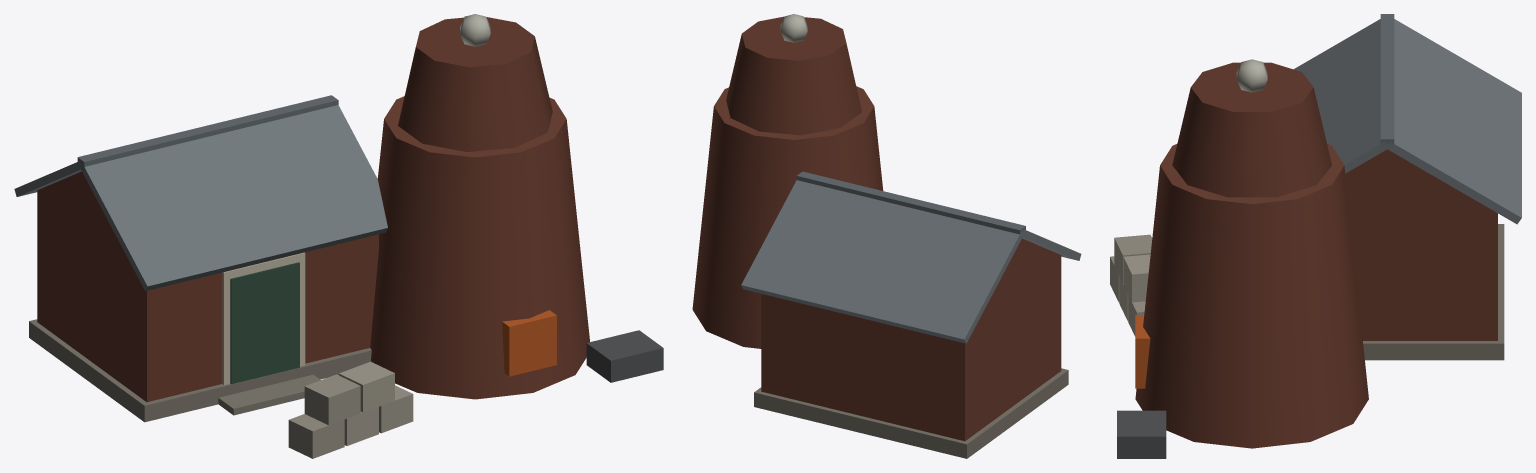
The model's file is procedural_smelter@5.glb.
3 views of the same model, side by side, from view 1: azimuth 30°, elevation 25°; view 2: azimuth 150°, elevation 25°; view 3: azimuth 270°, elevation 25° (orthographic). The views are drawn at different scales.
Visible parts, largest first — view 1: part_0, part_4; view 2: part_0, part_4; view 3: part_0, part_4.
Boxes of the visible parts, x1,y1,x2,y2 form: part_0: (14, 17, 663, 458); part_4: (460, 14, 490, 46); part_0: (692, 16, 1081, 458); part_4: (780, 14, 807, 42); part_0: (1110, 14, 1521, 458); part_4: (1236, 59, 1267, 92).
Size of the model in its own units: 8.51 by 6.09 by 6.7.
